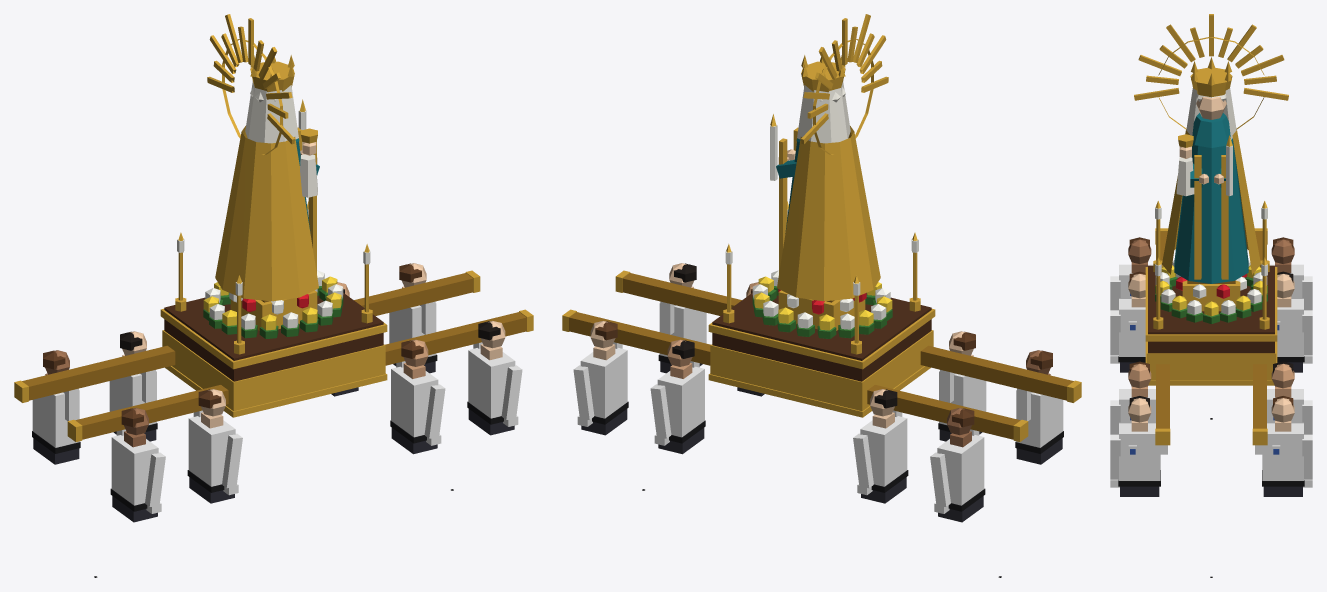
File: anda_candelaria_body.obj
3 renders of one model, left to right at view 1: azimuth 30°, elevation 25°; view 2: azimuth 150°, elevation 25°; view 3: azimuth 270°, elevation 25°, orthographic. The views are drawn at different scales.
Parts seen in each view (by area): view 1: anda, driver; view 2: anda, driver; view 3: anda, driver.
Part boxes in pixels (x1,y1,x2,y2): anda: (14, 14, 533, 577); driver: (389, 263, 437, 373); anda: (562, 14, 1081, 577); driver: (573, 321, 628, 435); anda: (1110, 14, 1312, 577); driver: (1255, 396, 1312, 496).
Bounding box in the file's own units: 4.16 × 4.51 × 1.75.
